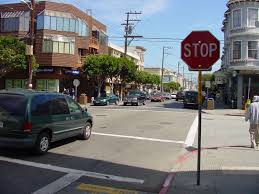Stop: (183, 28, 225, 80)
